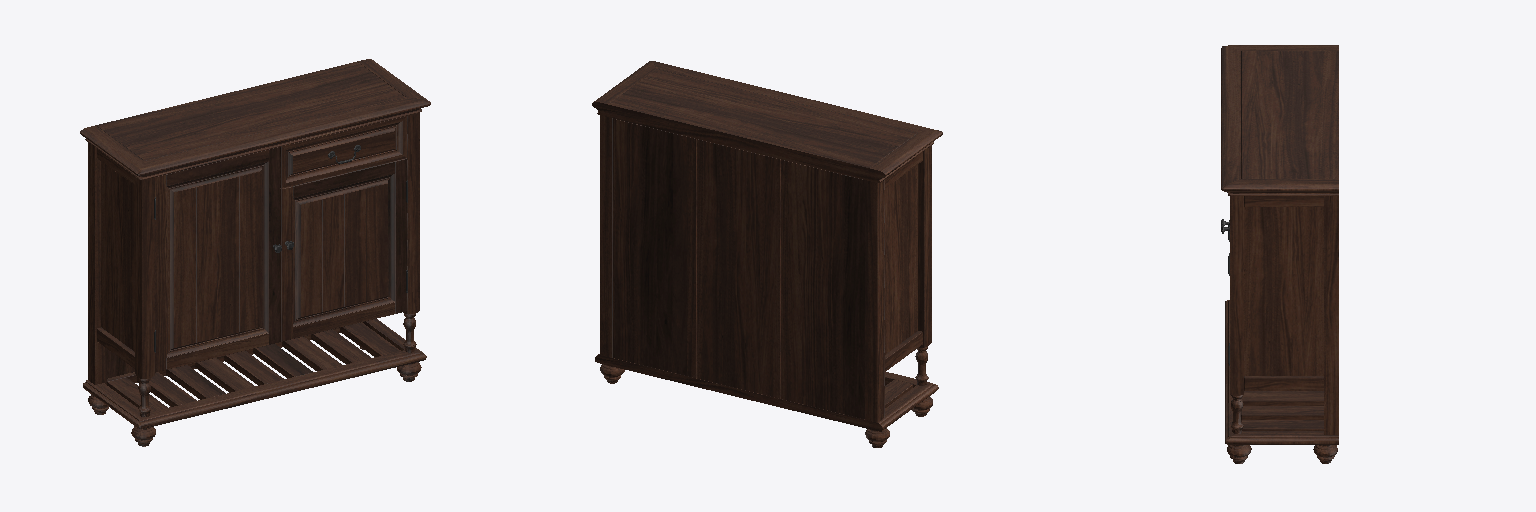
3 views of the same model, side by side, from view 1: azimuth 30°, elevation 25°; view 2: azimuth 150°, elevation 25°; view 3: azimuth 270°, elevation 25° (orthographic).
Parts seen in each view (by area): view 1: solid_002, solid_003; view 2: solid_002, solid_003; view 3: solid_002, solid_003.
Boxes of the visible parts, <box> form: solid_002: <box>83,61,430,446</box>; solid_003: <box>80,59,430,423</box>; solid_002: <box>592,61,941,447</box>; solid_003: <box>593,61,942,428</box>; solid_002: <box>1221,46,1338,463</box>; solid_003: <box>1223,45,1338,444</box>.
Size of the model in its own units: 1.41 by 1.29 by 0.4884.
1 materials, 1 textured.